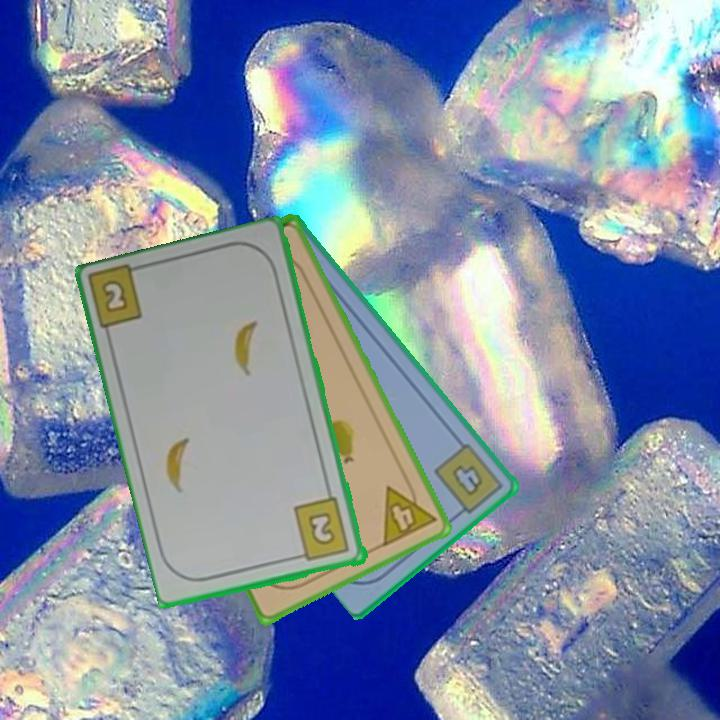2b: (290, 494, 353, 564), (97, 276, 132, 316)
4b: (430, 439, 506, 521)
4p: (379, 473, 439, 550)
